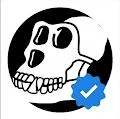fraud: (70, 73, 107, 110)
